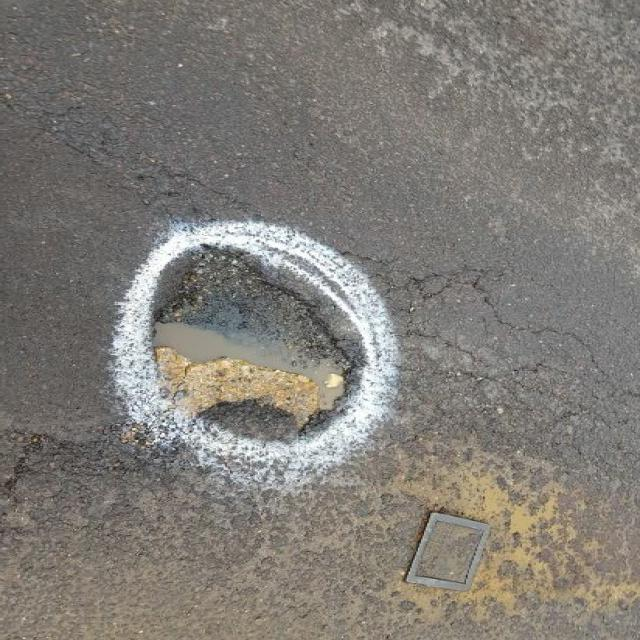Pothole: (151, 239, 366, 436)
